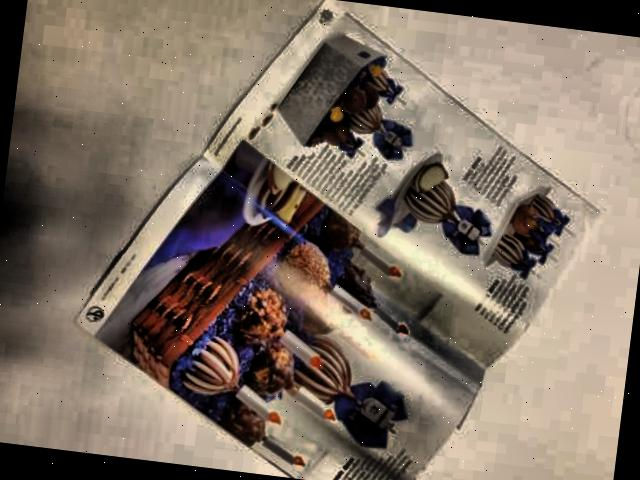Paper: (61, 0, 626, 480)
